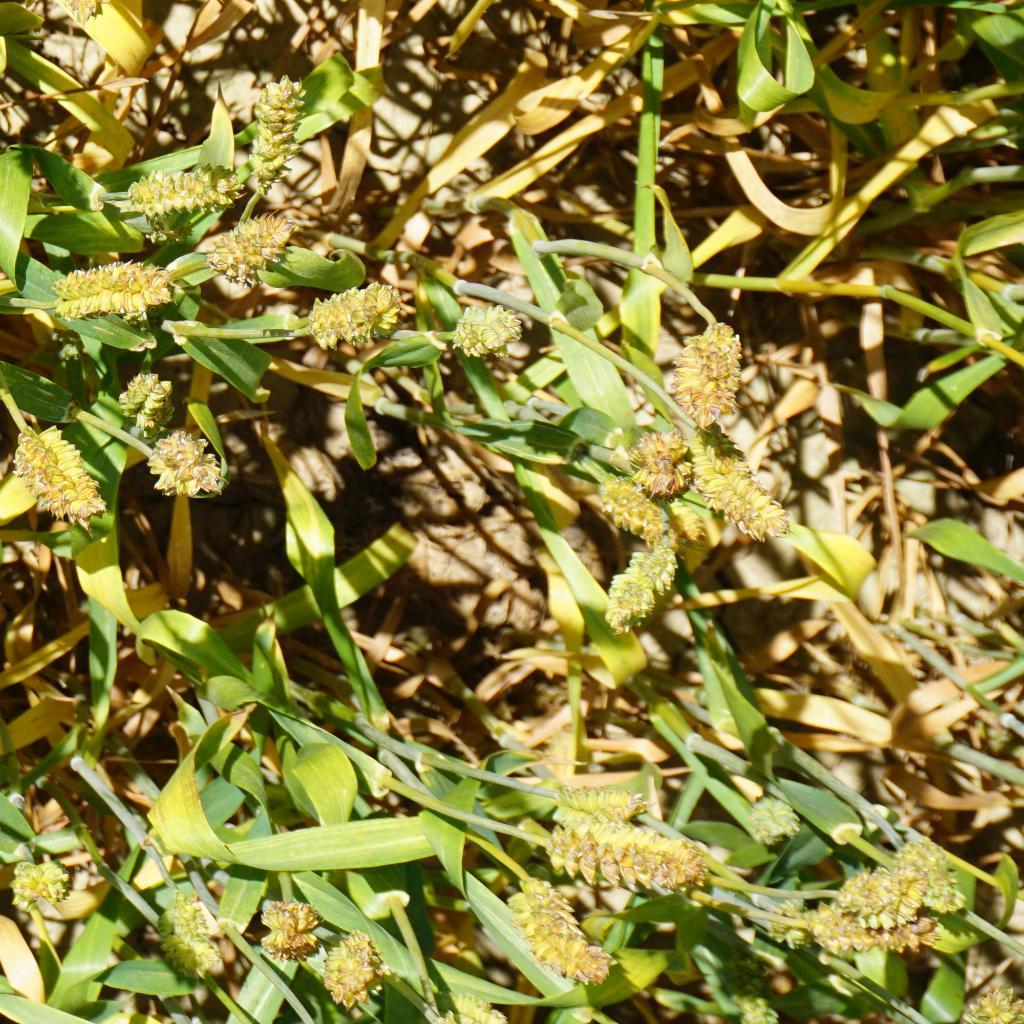0-0: (805, 899, 957, 978), (501, 888, 614, 992), (16, 420, 118, 526), (546, 825, 706, 892), (54, 243, 183, 323), (594, 529, 680, 649), (123, 155, 236, 244), (670, 320, 758, 427), (302, 269, 415, 352), (695, 447, 795, 537), (243, 72, 311, 194), (152, 883, 225, 978), (150, 422, 221, 518), (322, 921, 397, 1011), (549, 778, 659, 838), (209, 214, 287, 294), (903, 822, 974, 906), (7, 841, 80, 916), (254, 893, 324, 971), (649, 476, 713, 561), (838, 854, 912, 927), (619, 421, 691, 494), (450, 296, 528, 362), (117, 364, 192, 432), (594, 468, 660, 532), (747, 785, 805, 854), (766, 892, 809, 965), (965, 977, 1022, 1024)
